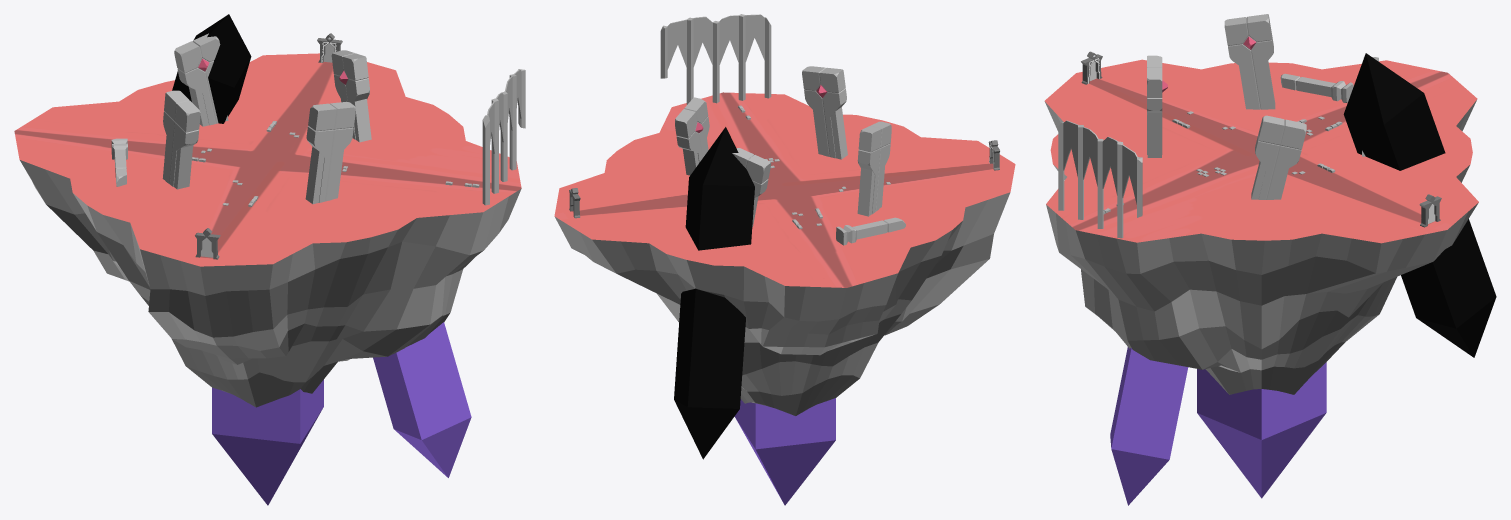
Rendered from island3.fbx.
The picture shows the model from 3 angles, left to right: view 1: azimuth 30°, elevation 25°; view 2: azimuth 150°, elevation 25°; view 3: azimuth 270°, elevation 25°; orthographic projection. The views are drawn at different scales.
Parts seen in each view (by area): view 1: island3_grass_road, island3_rocks, island3_crystals, island3_stone_slabs, island3_fachada, island3_obsidian, island3_coluna; view 2: island3_grass_road, island3_rocks, island3_obsidian, island3_stone_slabs, island3_crystals, island3_fachada, island3_coluna; view 3: island3_grass_road, island3_rocks, island3_crystals, island3_obsidian, island3_stone_slabs, island3_fachada, island3_coluna, island3_calcada.
Boxes of the visible parts, bbox=[...] form: island3_grass_road: bbox=[14, 53, 521, 266]; island3_rocks: bbox=[20, 160, 521, 407]; island3_crystals: bbox=[212, 322, 471, 505]; island3_stone_slabs: bbox=[162, 33, 371, 204]; island3_fachada: bbox=[482, 69, 525, 205]; island3_obsidian: bbox=[172, 14, 251, 123]; island3_coluna: bbox=[111, 138, 127, 186]; island3_grass_road: bbox=[554, 92, 1015, 287]; island3_rocks: bbox=[555, 192, 1010, 415]; island3_obsidian: bbox=[674, 127, 754, 459]; island3_stone_slabs: bbox=[675, 66, 891, 226]; island3_crystals: bbox=[734, 398, 835, 505]; island3_fachada: bbox=[660, 14, 771, 104]; island3_coluna: bbox=[836, 217, 905, 245]; island3_grass_road: bbox=[1045, 59, 1478, 243]; island3_rocks: bbox=[1044, 100, 1478, 394]; island3_crystals: bbox=[1110, 347, 1326, 505]; island3_obsidian: bbox=[1343, 53, 1496, 357]; island3_stone_slabs: bbox=[1147, 14, 1378, 199]; island3_fachada: bbox=[1058, 120, 1142, 238]; island3_coluna: bbox=[1280, 73, 1353, 102]; island3_calcada: bbox=[1103, 111, 1342, 214].
Size of what is drawn, in the model's own units: 6224 by 6994 by 6338.
